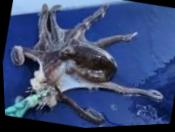Cephalopod: (9, 3, 161, 126)
